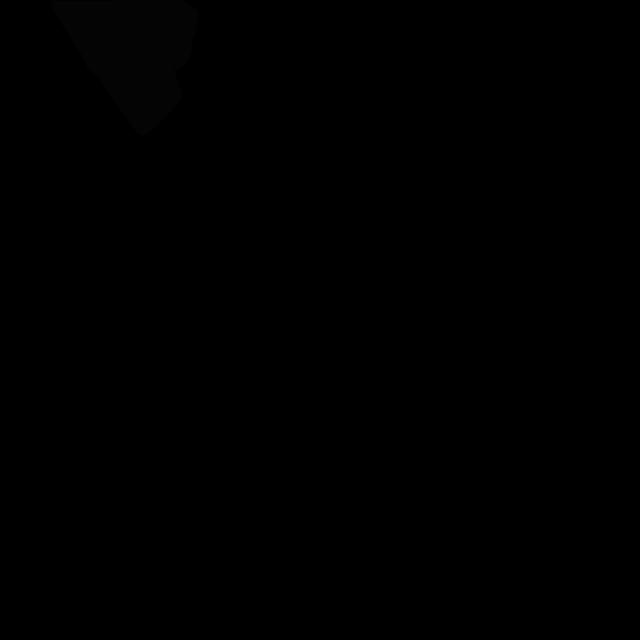soft_plastic: (50, 0, 198, 136)
